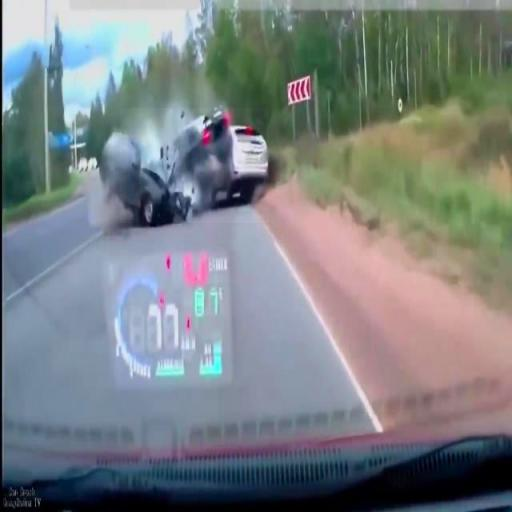小汽车撞小汽车: (120, 108, 269, 223)
